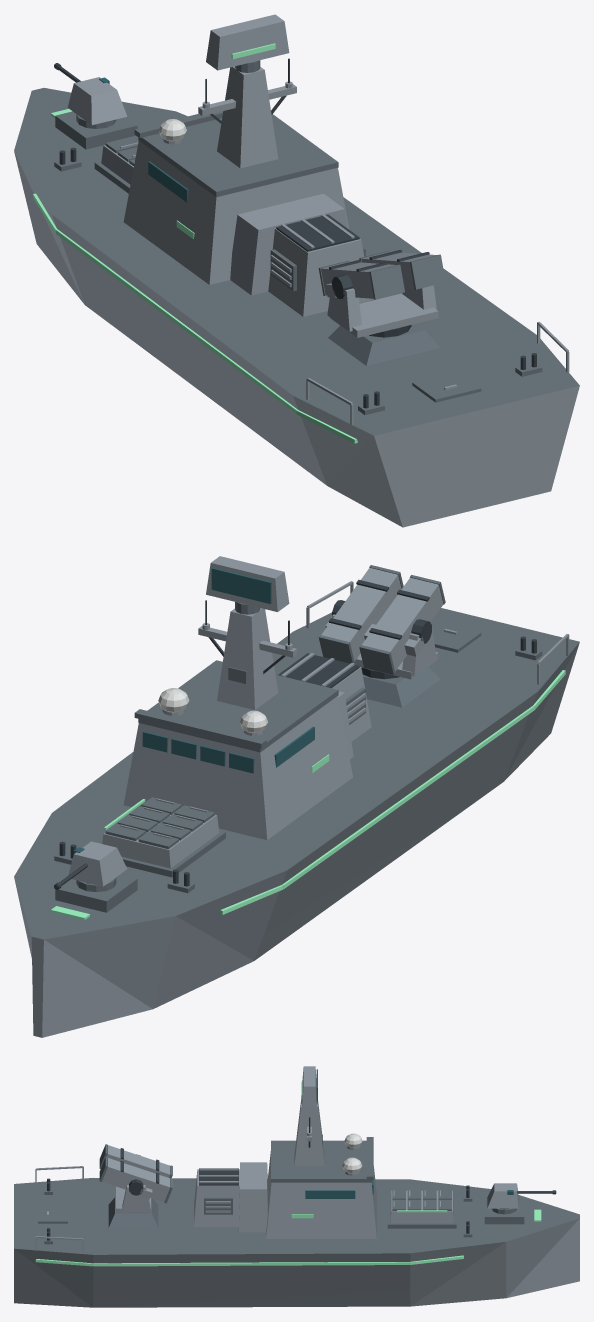
Rendered from ESC_CAP_T1.fbx.
The picture shows the model from 3 angles, top to bottom: view 1: azimuth 30°, elevation 25°; view 2: azimuth 150°, elevation 25°; view 3: azimuth 270°, elevation 25°; orthographic projection. The views are drawn at different scales.
Visible parts, largest first — view 1: ContinuousHull.001, Deckhouse.001, Roof.001, AftServiceCabin.001, AirSearchMast.001, FunnelEnclosure.001, RotatingSearchRadarCabinet.001, SAMFixedPedestal, SAMSlewTable, PrimaryGunCupola.001, PrimaryGunDeckPlinth, RoleHullStripe-1_1 (+9 smaller); view 2: ContinuousHull.001, Deckhouse.001, Roof.001, AirSearchMast.001, SAMCanisterBank_02, SAMCanisterBank_01, ForwardVLSCasing.001, RotatingSearchRadarCabinet.001, PrimaryGunCupola.001, SAMFixedPedestal, PrimaryGunDeckPlinth, RoleHullStripe-1_1 (+11 smaller); view 3: ContinuousHull.001, Deckhouse.001, Roof.001, AftServiceCabin.001, FunnelEnclosure.001, AirSearchMast.001, SAMCanisterBank_01, RoleHullStripe1_1, ForwardVLSCasing.001, SAMFixedPedestal, SAMCanisterBank_02, PrimaryGunCupola.001 (+9 smaller).
Boxes of the visible parts, box(x1,y1,x2,y2) form: ContinuousHull.001: box(14, 88, 579, 527); Deckhouse.001: box(123, 141, 349, 284); Roof.001: box(138, 114, 338, 197); AftServiceCabin.001: box(230, 193, 347, 295); AirSearchMast.001: box(217, 66, 278, 168); FunnelEnclosure.001: box(268, 228, 371, 316); RotatingSearchRadarCabinet.001: box(206, 14, 289, 70); SAMFixedPedestal: box(328, 324, 440, 365); SAMSlewTable: box(330, 293, 438, 337); PrimaryGunCupola.001: box(67, 77, 127, 125); PrimaryGunDeckPlinth: box(55, 111, 137, 149); RoleHullStripe-1_1: box(55, 229, 297, 414); ContinuousHull.001: box(14, 608, 579, 1037); Deckhouse.001: box(123, 696, 352, 839); Roof.001: box(138, 660, 338, 752); AirSearchMast.001: box(217, 608, 278, 709); SAMCanisterBank_02: box(362, 577, 443, 671); SAMCanisterBank_01: box(321, 567, 401, 661); ForwardVLSCasing.001: box(102, 806, 219, 868); RotatingSearchRadarCabinet.001: box(206, 556, 289, 611); PrimaryGunCupola.001: box(68, 841, 127, 886); SAMFixedPedestal: box(362, 667, 440, 707); PrimaryGunDeckPlinth: box(55, 874, 137, 912); RoleHullStripe-1_1: box(282, 706, 534, 888); ContinuousHull.001: box(14, 1178, 579, 1307); Deckhouse.001: box(266, 1151, 376, 1238); Roof.001: box(271, 1140, 371, 1182); AftServiceCabin.001: box(238, 1162, 267, 1232); FunnelEnclosure.001: box(194, 1169, 239, 1226); AirSearchMast.001: box(294, 1100, 324, 1165); SAMCanisterBank_01: box(102, 1158, 170, 1202); RoleHullStripe1_1: box(93, 1262, 410, 1266); ForwardVLSCasing.001: box(390, 1190, 453, 1223); SAMFixedPedestal: box(108, 1197, 158, 1227); SAMCanisterBank_02: box(106, 1145, 170, 1177); PrimaryGunCupola.001: box(487, 1183, 518, 1208).
Size of the model in its own units: 290 by 357 by 900.
